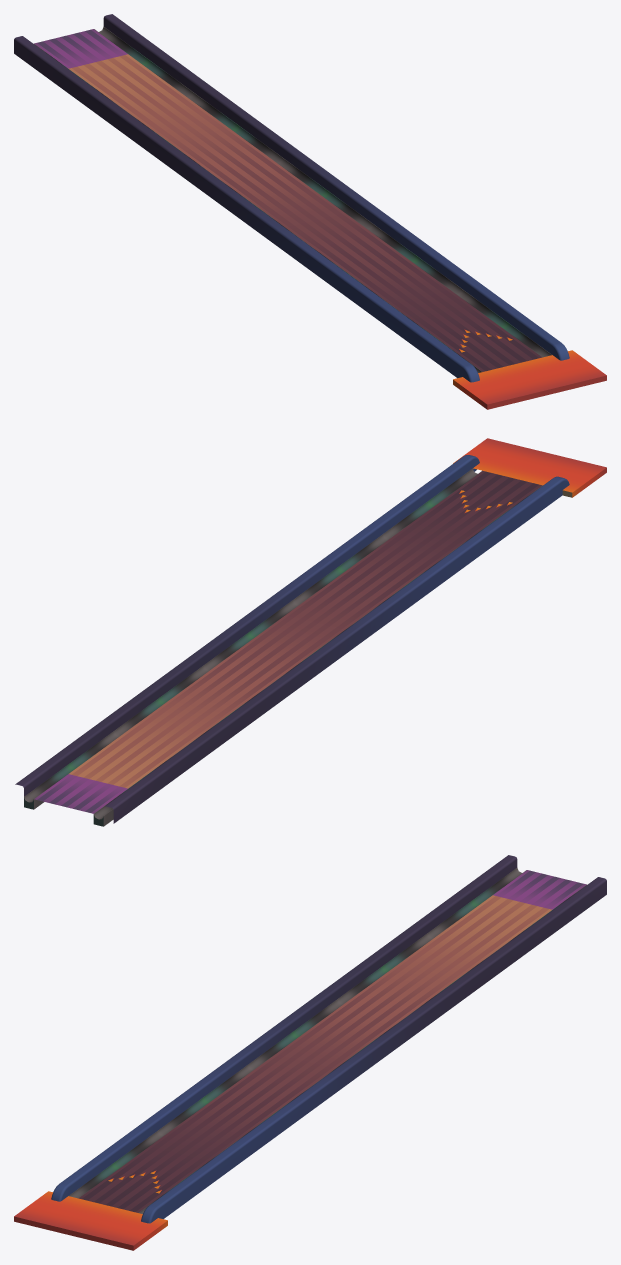
The model's file is lane_default.gltf.
3 renders of one model, top to bottom at view 1: azimuth 30°, elevation 25°; view 2: azimuth 150°, elevation 25°; view 3: azimuth 330°, elevation 25°, orthographic.
Visible parts, largest first — view 1: lane_default.floor, lane_default.walls, lane_default.gutter, lane_default.playerArea; view 2: lane_default.floor, lane_default.walls, lane_default.gutter, lane_default.playerArea; view 3: lane_default.floor, lane_default.walls, lane_default.gutter, lane_default.playerArea.
Boxes of the visible parts, bbox=[...] form: lane_default.floor: bbox=[34, 29, 542, 371]; lane_default.walls: bbox=[14, 14, 569, 382]; lane_default.gutter: bbox=[34, 26, 551, 372]; lane_default.playerArea: bbox=[453, 350, 606, 409]; lane_default.floor: bbox=[34, 471, 541, 813]; lane_default.walls: bbox=[15, 455, 569, 823]; lane_default.gutter: bbox=[24, 468, 542, 826]; lane_default.playerArea: bbox=[453, 438, 606, 497]; lane_default.floor: bbox=[78, 870, 586, 1212]; lane_default.walls: bbox=[51, 855, 606, 1223]; lane_default.gutter: bbox=[69, 867, 586, 1213]; lane_default.playerArea: bbox=[14, 1191, 167, 1250].
Size of the model in its own units: 3 by 0.5 by 21.
1 material, 1 textured.
